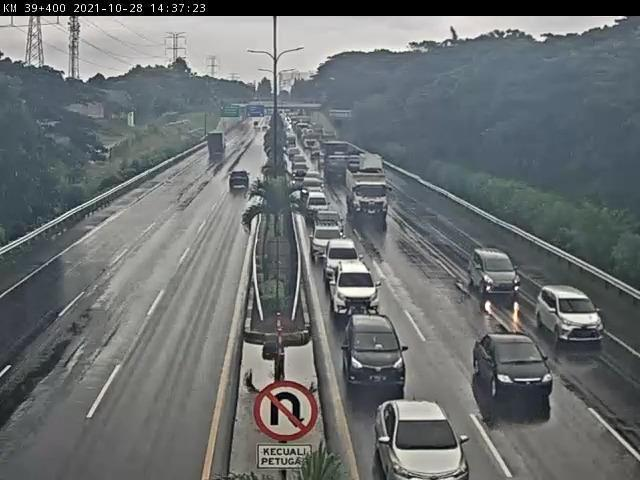car: (372, 396, 473, 480), (343, 312, 407, 390), (472, 336, 552, 396), (534, 285, 610, 346), (468, 249, 526, 302), (330, 268, 378, 319), (323, 239, 367, 279), (308, 224, 350, 260), (314, 210, 345, 237), (306, 191, 333, 217), (301, 177, 326, 198), (230, 171, 253, 193), (293, 161, 311, 179), (293, 154, 307, 165)
truck: (345, 175, 391, 224), (323, 141, 352, 178), (359, 155, 387, 184), (207, 134, 228, 156)
